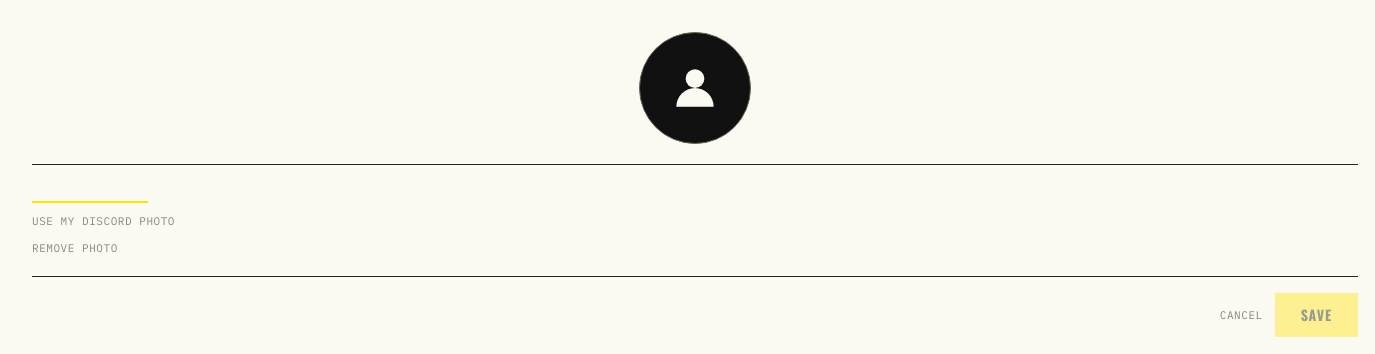
Scenario: AvatarPanel › the success announcement survives the panel closing (the live region outlives the dialog)
What coordinates should you click on to do the following:
click the button "Remove photo"
I would click on:
 (75, 248)
Its box is top-left (32, 240), bottom-right (118, 256).
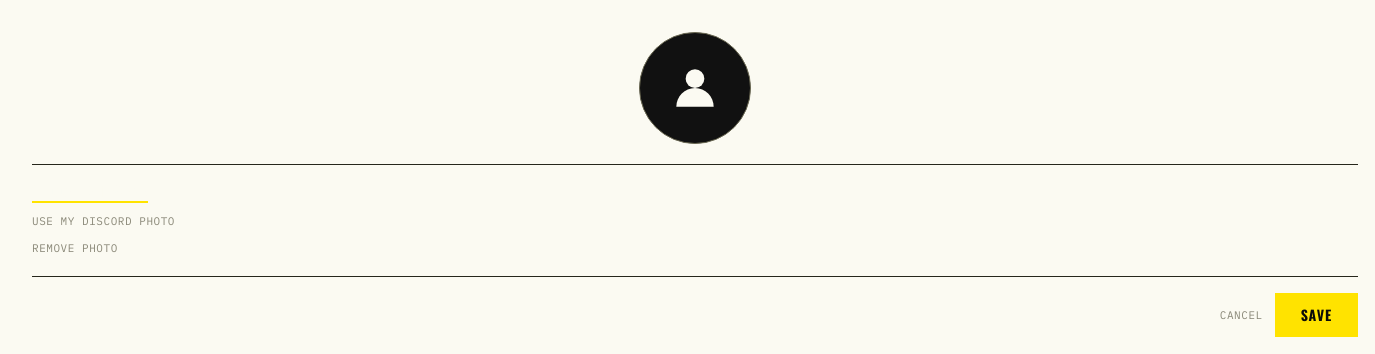
What coordinates should you click on to do the following:
click the button "Save"
I would click on:
 (1316, 315)
Its box is top-left (1275, 293), bottom-right (1358, 337).
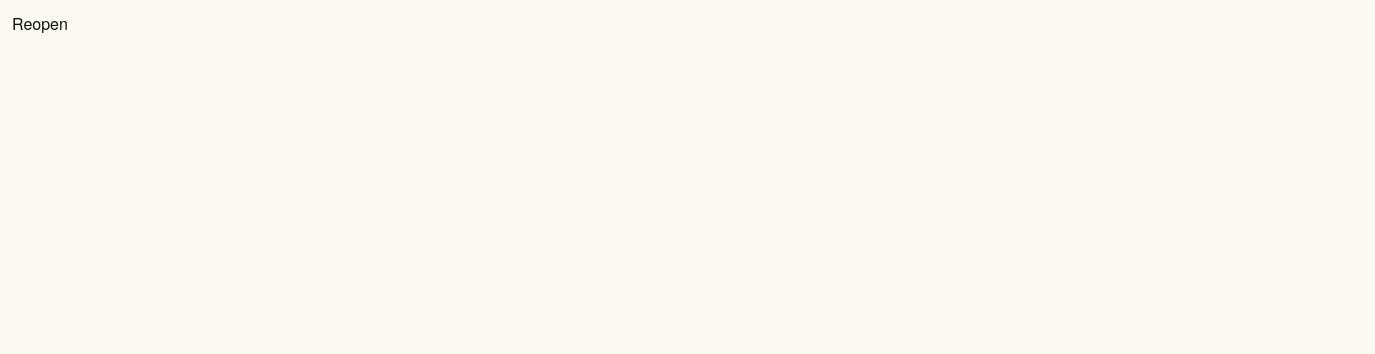
Expected: the button "Save" is gone
